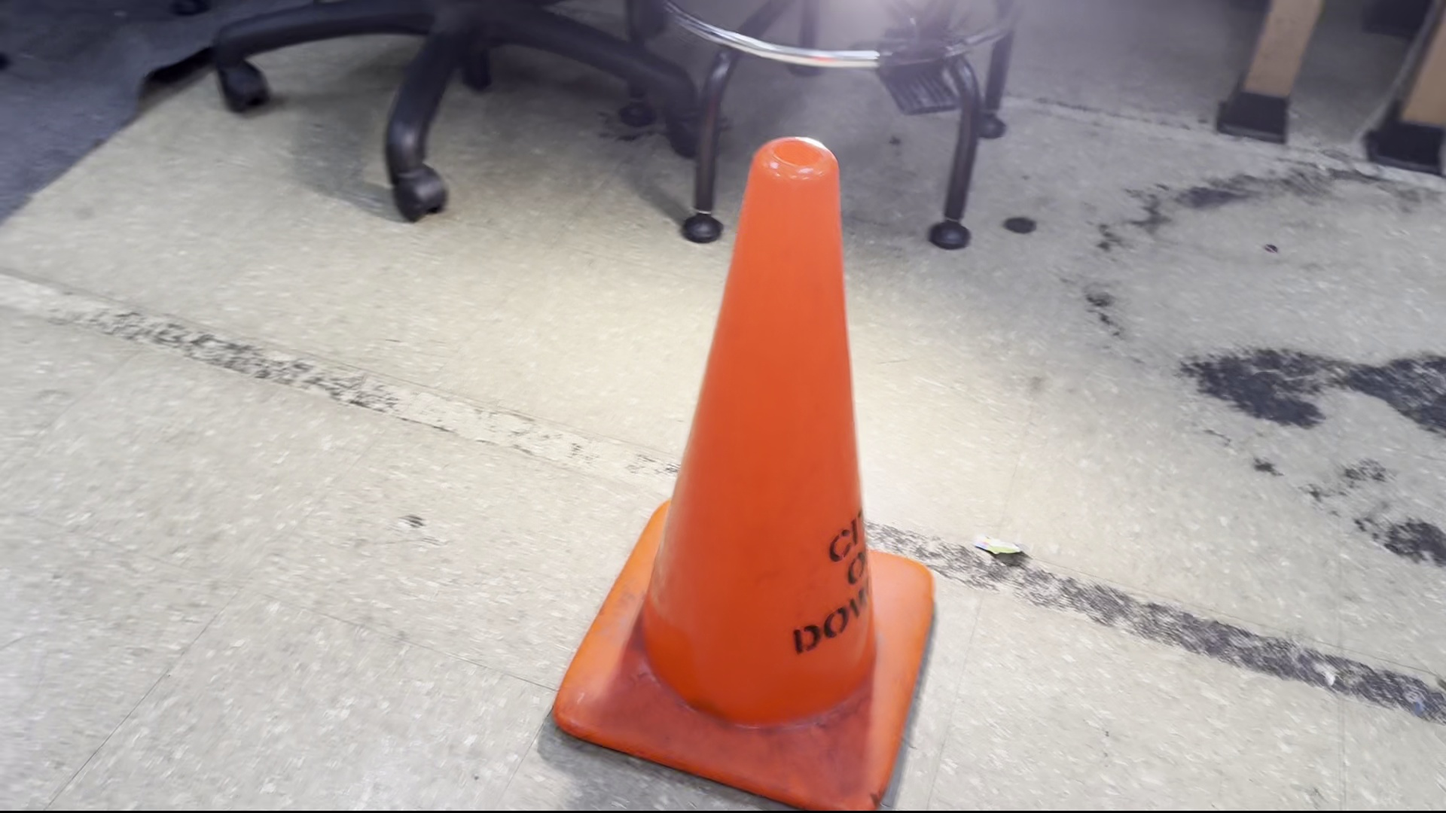traffic_cone: (551, 135, 936, 811)
